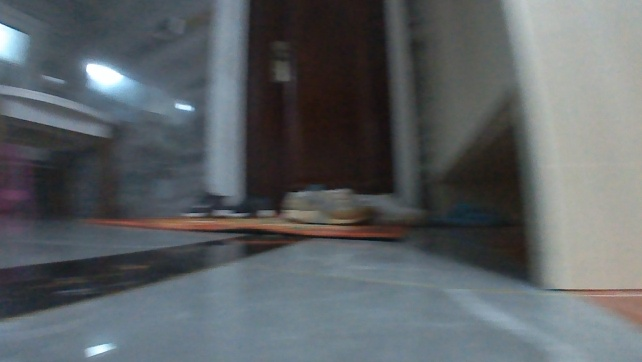blanket: (79, 215, 410, 242)
door_anno: (231, 0, 401, 210)
